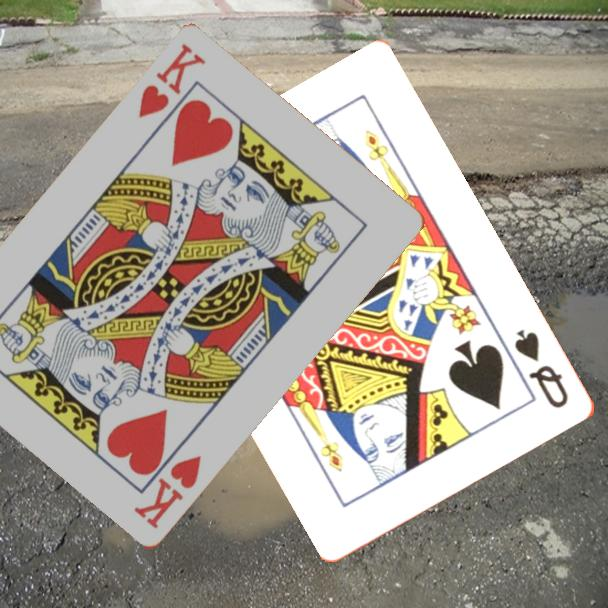h13: (134, 40, 209, 122), (130, 452, 205, 533)
s12: (511, 326, 572, 412)
